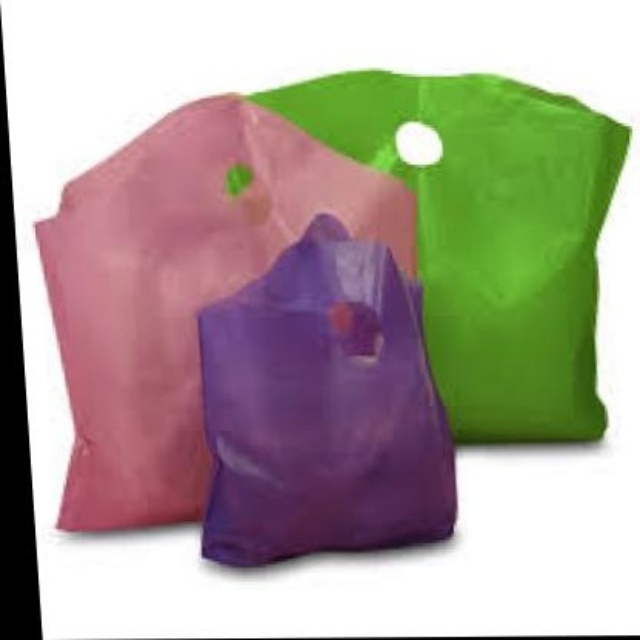trash: (37, 71, 628, 529), (37, 95, 415, 529), (249, 71, 629, 442), (198, 214, 455, 565)
